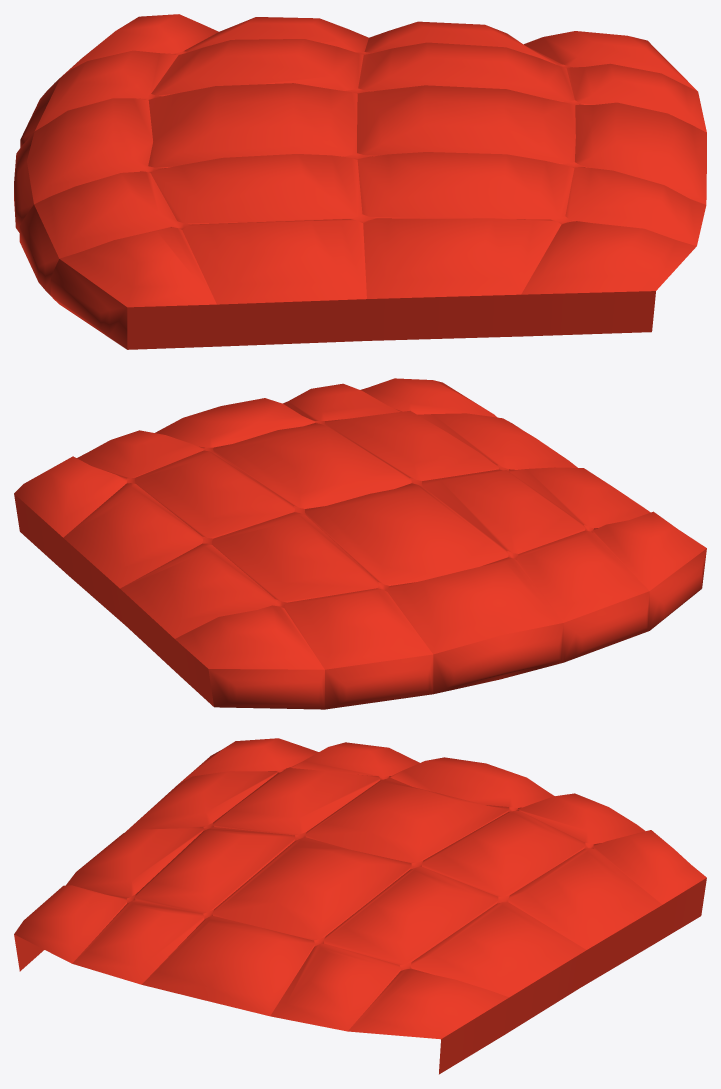
File: m_roomOfPoleDance_armChair_pillow.fbx
The picture shows the model from 3 angles, top to bottom: view 1: azimuth 30°, elevation 25°; view 2: azimuth 150°, elevation 25°; view 3: azimuth 270°, elevation 25°; orthographic projection. The views are drawn at different scales.
Parts seen in each view (by area): view 1: m_roomOfPoleDance_armChair_pillow; view 2: m_roomOfPoleDance_armChair_pillow; view 3: m_roomOfPoleDance_armChair_pillow.
Boxes of the visible parts, x1,y1,x2,y2 form: m_roomOfPoleDance_armChair_pillow: [14, 14, 706, 349]; m_roomOfPoleDance_armChair_pillow: [14, 378, 706, 709]; m_roomOfPoleDance_armChair_pillow: [14, 738, 706, 1074].
Size of the model in its own units: 61.98 by 9.98 by 63.16.
